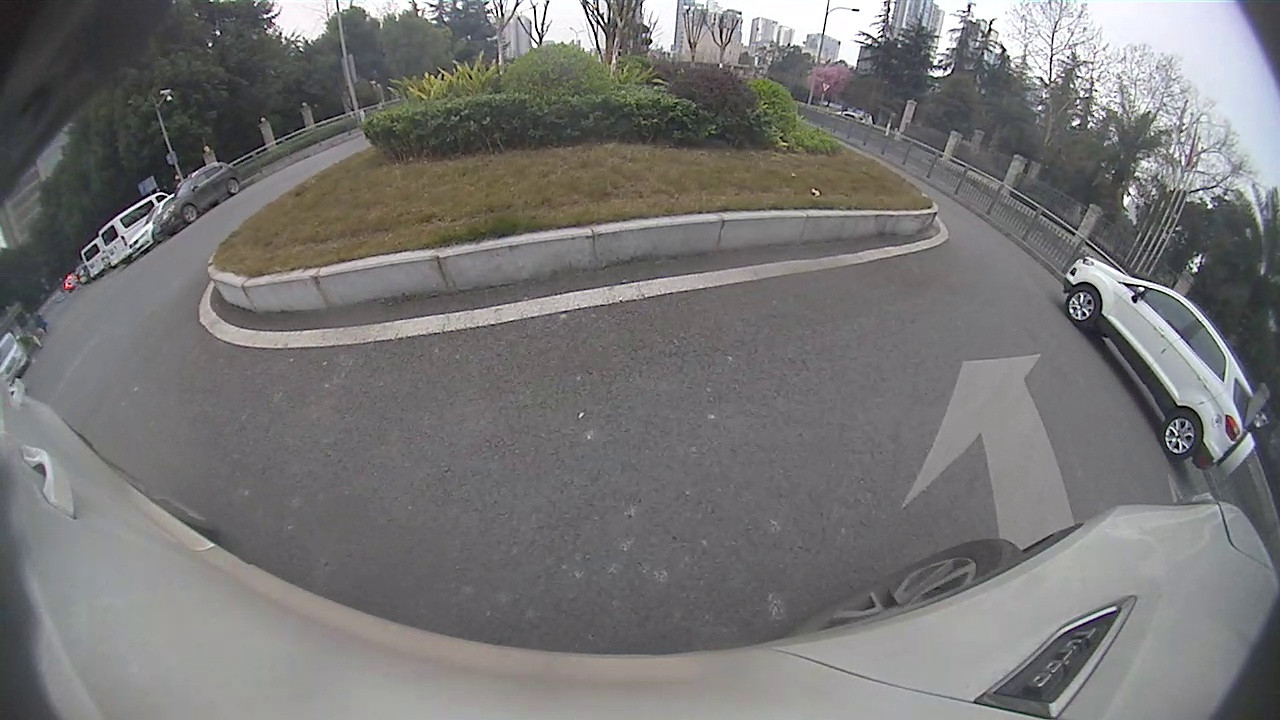car: (1062, 256, 1256, 477), (154, 163, 240, 237), (100, 190, 171, 267), (0, 331, 31, 377)
front: (1065, 284, 1103, 328), (181, 203, 197, 224)
rear: (1159, 410, 1203, 460), (226, 179, 241, 195)
